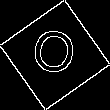O_S: (29, 26, 81, 84)
